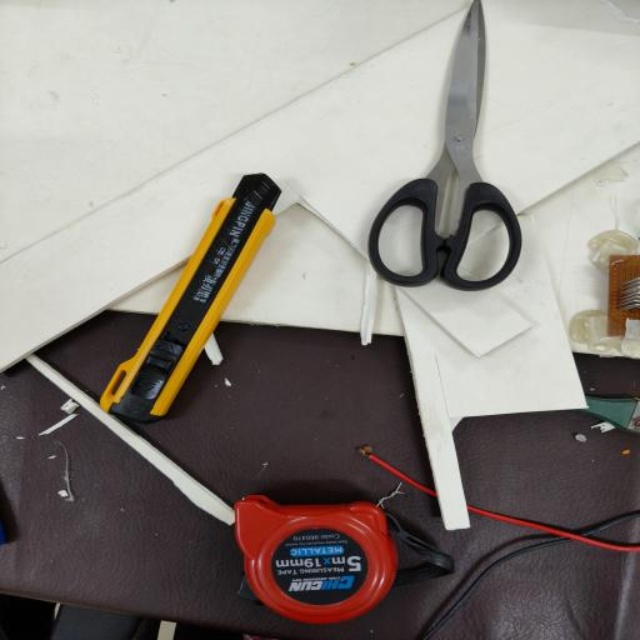scissor: (366, 0, 526, 293)
